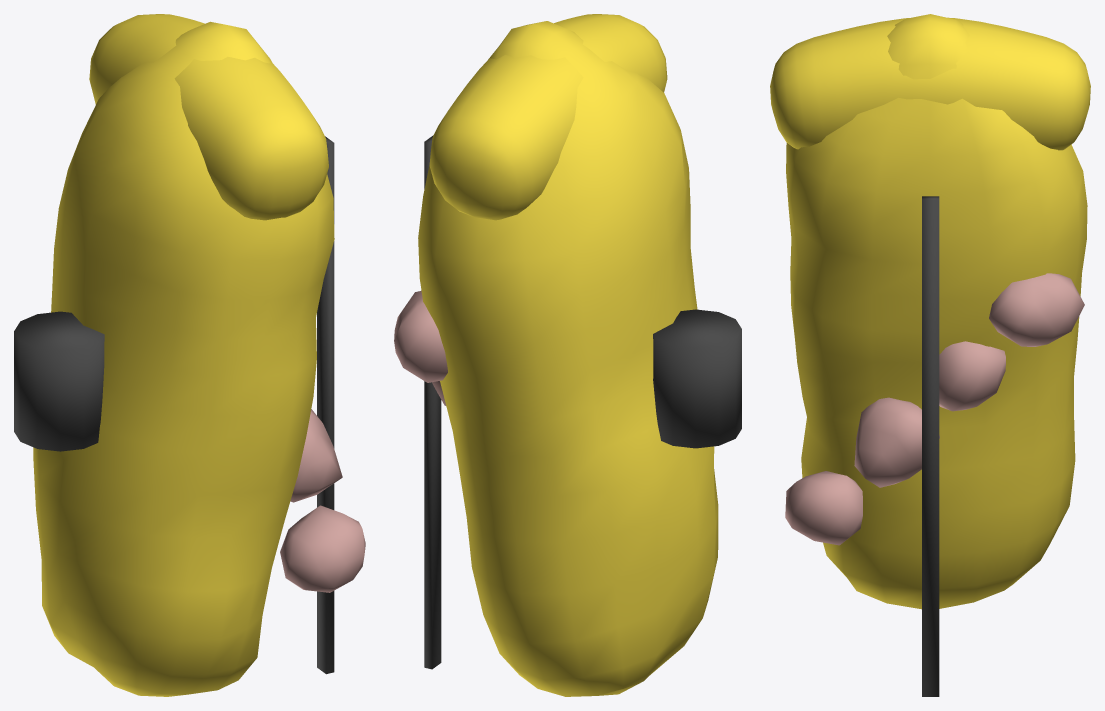
The model's file is SM_SkinStealer_Torso.fbx.
The picture shows the model from 3 angles, left to right: view 1: azimuth 30°, elevation 25°; view 2: azimuth 150°, elevation 25°; view 3: azimuth 270°, elevation 25°; orthographic projection. The views are drawn at different scales.
Visible parts, largest first — view 1: SM_SkinStealer_Torso; view 2: SM_SkinStealer_Torso; view 3: SM_SkinStealer_Torso.
Boxes of the visible parts, x1,y1,x2,y2 form: SM_SkinStealer_Torso: (14,14,365,696); SM_SkinStealer_Torso: (394,14,741,696); SM_SkinStealer_Torso: (770,14,1090,696).
Bounding box in the file's own units: 38.5 × 79.69 × 36.86.
